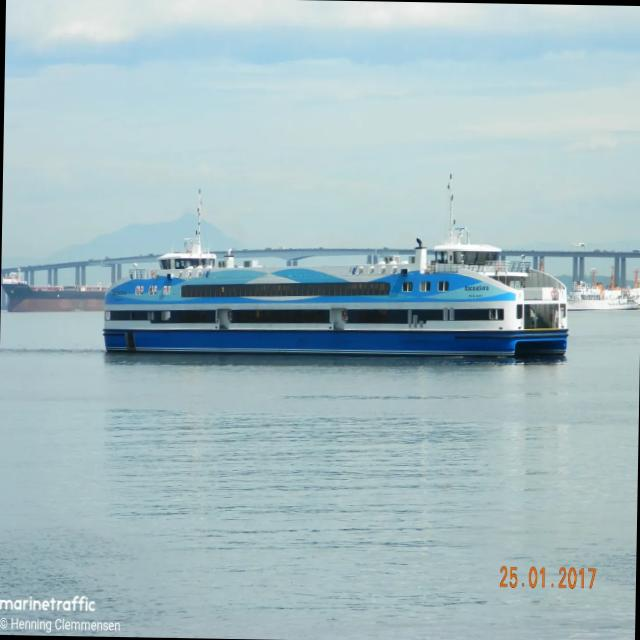Passenger: (103, 176, 567, 358)
